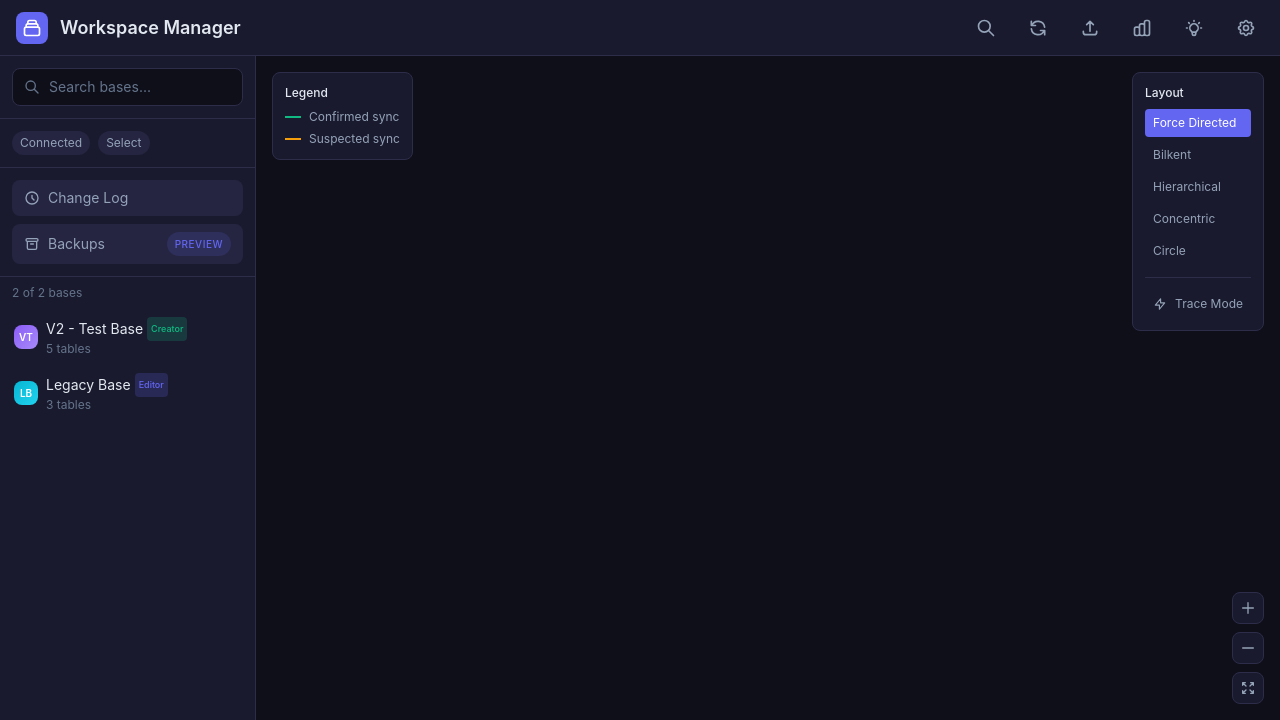
Test case: App › closes settings modal when close button clicked
# Open modal
Click the button named "settings".
click(1246, 28)  # box [1228, 10, 1264, 46]
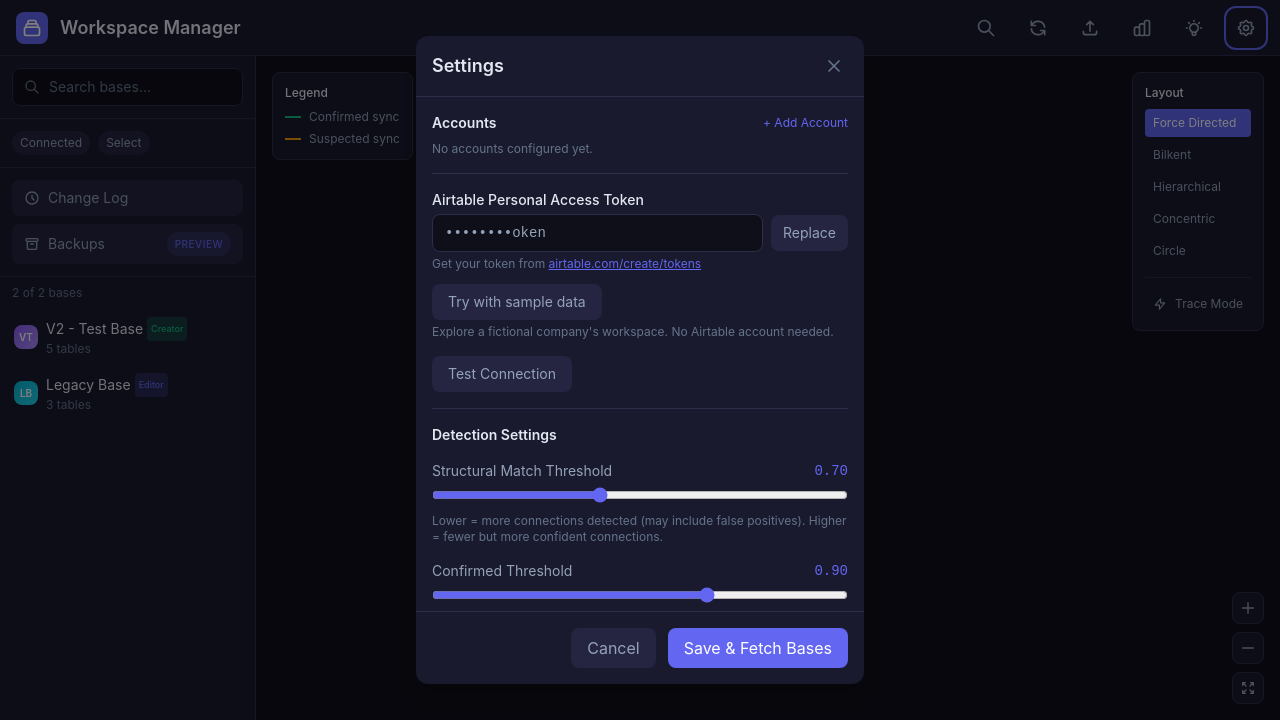
Now the heading "Settings" is shown, box [432, 52, 504, 80]
# Close modal
Click the button "Cancel".
click(613, 648)  # box [571, 628, 656, 668]
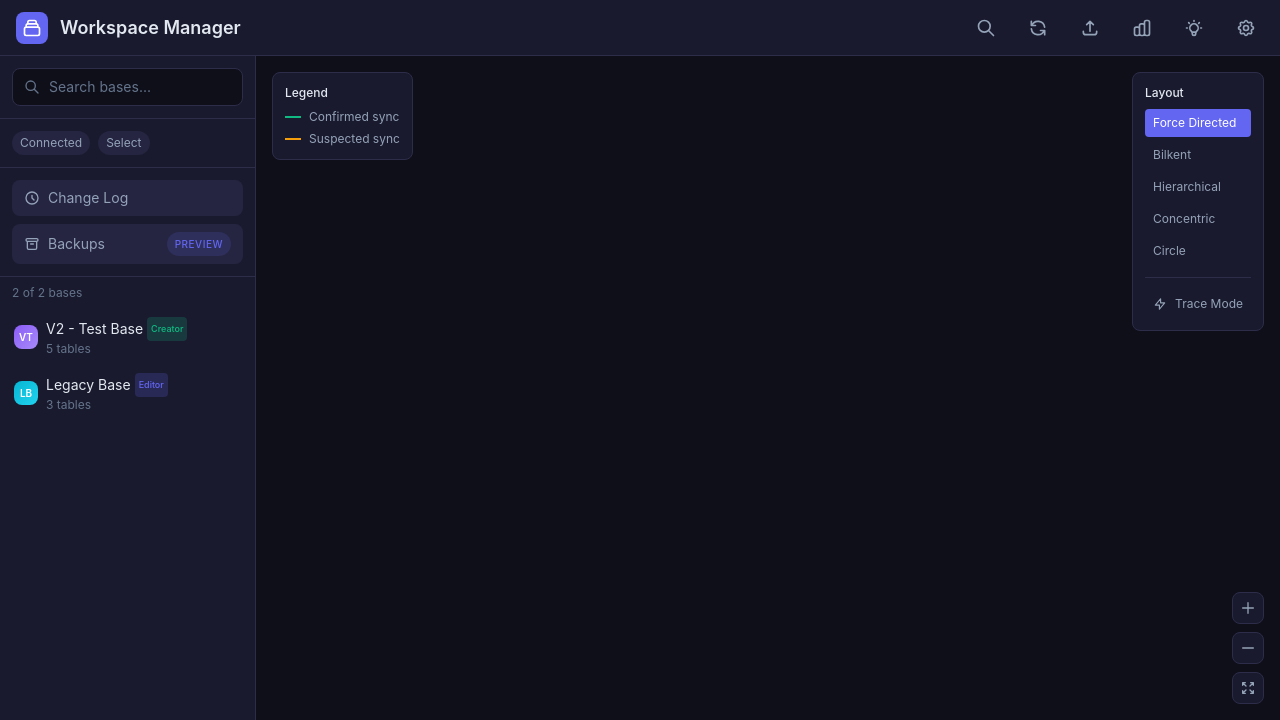
Now the text "Airtable Personal Access Token" is gone
